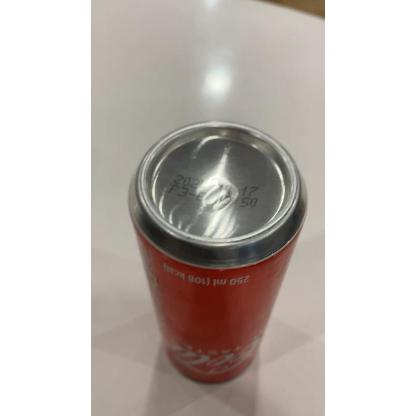Can: (128, 121, 308, 384)
